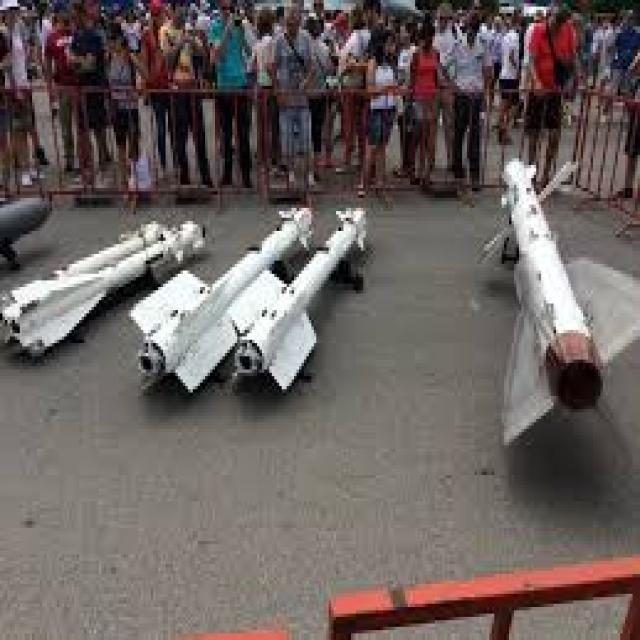missile: (484, 159, 627, 434), (132, 198, 314, 388), (0, 216, 212, 358), (232, 197, 372, 397)
